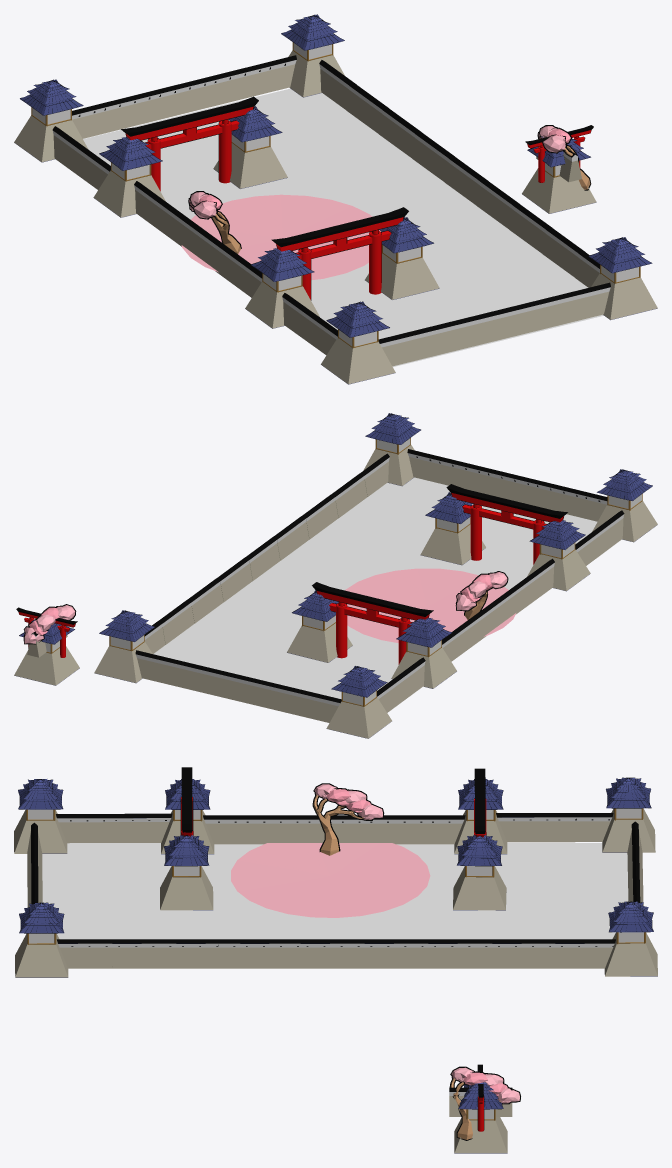
File: japanesemapsmall.fbx
3 renders of one model, top to bottom at view 1: azimuth 30°, elevation 25°; view 2: azimuth 150°, elevation 25°; view 3: azimuth 270°, elevation 25°, orthographic. The views are drawn at different scales.
Parts seen in each view (by area): view 1: Plane, SakuraCircle, Tori|Paintable1|Dupli|, Tori.001|Paintable1|Dupli|, Wallhub.013|Roof1|Dupli|, Wallhub.014|Roof1|Dupli|, Wallhub.004|Roof1|Dupli|, Wallhub.008|Roof1|Dupli|, Wallhub.003|Roof1|Dupli|, Wallhub.005|Roof1|Dupli|, Wallhub.006|Roof1|Dupli|, Wallhub.007|Roof1|Dupli| (+31 smaller); view 2: Plane, SakuraCircle, Tori|Paintable1|Dupli|, Wallhub.008|Roof1|Dupli|, Tori.001|Paintable1|Dupli|, Wallhub.007|Roof1|Dupli|, Wallhub.013|Roof1|Dupli|, Wallhub.004|Roof1|Dupli|, Wallhub.006|Roof1|Dupli|, Wallhub.005|Roof1|Dupli|, Wallhub.003|Roof1|Dupli|, Wallhub.014|Roof1|Dupli| (+30 smaller); view 3: Plane, SakuraCircle, Wallhub.004|Roof1|Dupli|, Wallhub.003|Roof1|Dupli|, Wallhub.007|Roof1|Dupli|, Wallhub.014|Roof1|Dupli|, Wallhub.008|Roof1|Dupli|, Wallhub.013|Roof1|Dupli|, Roof1, Sakura|Leaves|Dupli|, Wall.005|Windows|Dupli|, Wall.010|Windows|Dupli| (+22 smaller).
Part boxes in pixels (bbox=[...]): Plane: bbox=[83, 88, 603, 366]; SakuraCircle: bbox=[181, 194, 381, 280]; Tori|Paintable1|Dupli|: bbox=[121, 96, 258, 191]; Tori.001|Paintable1|Dupli|: bbox=[271, 207, 408, 300]; Wallhub.013|Roof1|Dupli|: bbox=[321, 301, 395, 384]; Wallhub.014|Roof1|Dupli|: bbox=[588, 237, 657, 320]; Wallhub.004|Roof1|Dupli|: bbox=[365, 217, 439, 299]; Wallhub.008|Roof1|Dupli|: bbox=[14, 79, 88, 162]; Wallhub.003|Roof1|Dupli|: bbox=[213, 106, 287, 188]; Wallhub.005|Roof1|Dupli|: bbox=[93, 137, 165, 217]; Wallhub.006|Roof1|Dupli|: bbox=[245, 248, 319, 328]; Wallhub.007|Roof1|Dupli|: bbox=[281, 14, 344, 97]; Plane: bbox=[153, 477, 597, 699]; SakuraCircle: bbox=[345, 568, 516, 642]; Tori|Paintable1|Dupli|: bbox=[312, 582, 433, 664]; Wallhub.008|Roof1|Dupli|: bbox=[326, 666, 391, 738]; Tori.001|Paintable1|Dupli|: bbox=[446, 484, 567, 564]; Wallhub.007|Roof1|Dupli|: bbox=[94, 610, 154, 683]; Wallhub.013|Roof1|Dupli|: bbox=[592, 469, 657, 542]; Wallhub.004|Roof1|Dupli|: bbox=[420, 492, 485, 565]; Wallhub.006|Roof1|Dupli|: bbox=[527, 520, 590, 591]; Wallhub.005|Roof1|Dupli|: bbox=[391, 617, 456, 688]; Wallhub.003|Roof1|Dupli|: bbox=[287, 590, 352, 662]; Wallhub.014|Roof1|Dupli|: bbox=[363, 413, 420, 486]; Plane: bbox=[42, 843, 628, 939]; SakuraCircle: bbox=[231, 843, 430, 917]; Wallhub.004|Roof1|Dupli|: bbox=[160, 835, 213, 910]; Wallhub.003|Roof1|Dupli|: bbox=[453, 835, 506, 910]; Wallhub.007|Roof1|Dupli|: bbox=[604, 901, 657, 976]; Wallhub.014|Roof1|Dupli|: bbox=[15, 902, 68, 977]; Wallhub.008|Roof1|Dupli|: bbox=[602, 777, 655, 852]; Wallhub.013|Roof1|Dupli|: bbox=[14, 779, 67, 853]; Roof1: bbox=[454, 1082, 507, 1153]; Sakura|Leaves|Dupli|: bbox=[312, 783, 384, 855]; Wall.005|Windows|Dupli|: bbox=[112, 939, 176, 968]; Wall.010|Windows|Dupli|: bbox=[428, 939, 492, 968].
Size of the model in its own units: 2425 by 701 by 2054.
